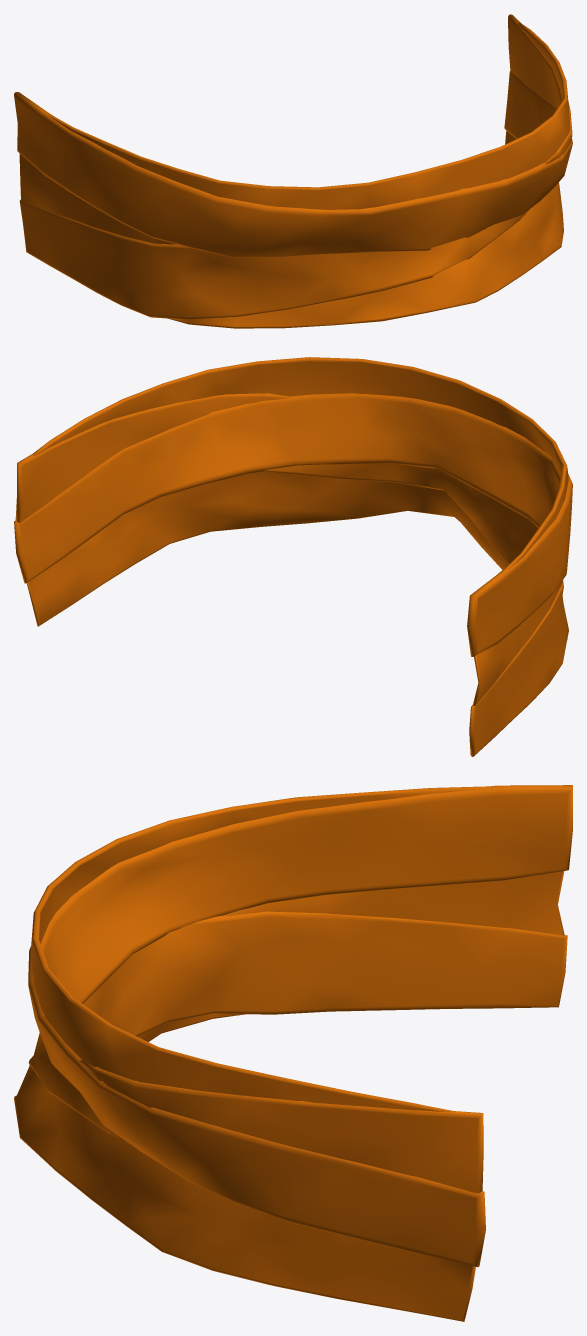
3 views of the same model, one above another, from view 1: azimuth 30°, elevation 25°; view 2: azimuth 150°, elevation 25°; view 3: azimuth 270°, elevation 25° (orthographic). The views are drawn at different scales.
Parts seen in each view (by area): view 1: hash_0616AD58.model; view 2: hash_0616AD58.model; view 3: hash_0616AD58.model.
Boxes of the visible parts, bbox=[...] form: hash_0616AD58.model: bbox=[14, 14, 572, 328]; hash_0616AD58.model: bbox=[14, 357, 572, 756]; hash_0616AD58.model: bbox=[14, 785, 572, 1321].
Bounding box in the file's own units: 0.1641 × 0.0601 × 0.1221.
